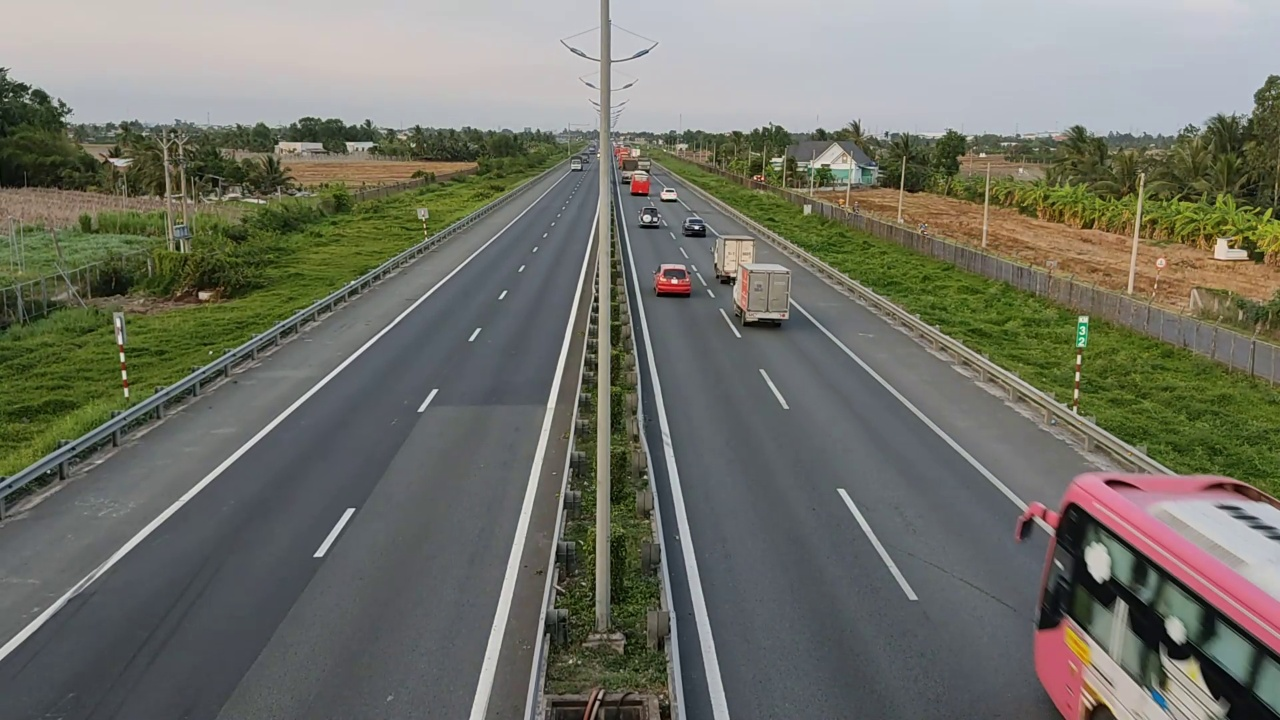bus: (1015, 470, 1279, 715)
car: (653, 263, 693, 297), (637, 205, 665, 227), (681, 217, 707, 237)
truck: (733, 263, 791, 326), (711, 235, 756, 282)
